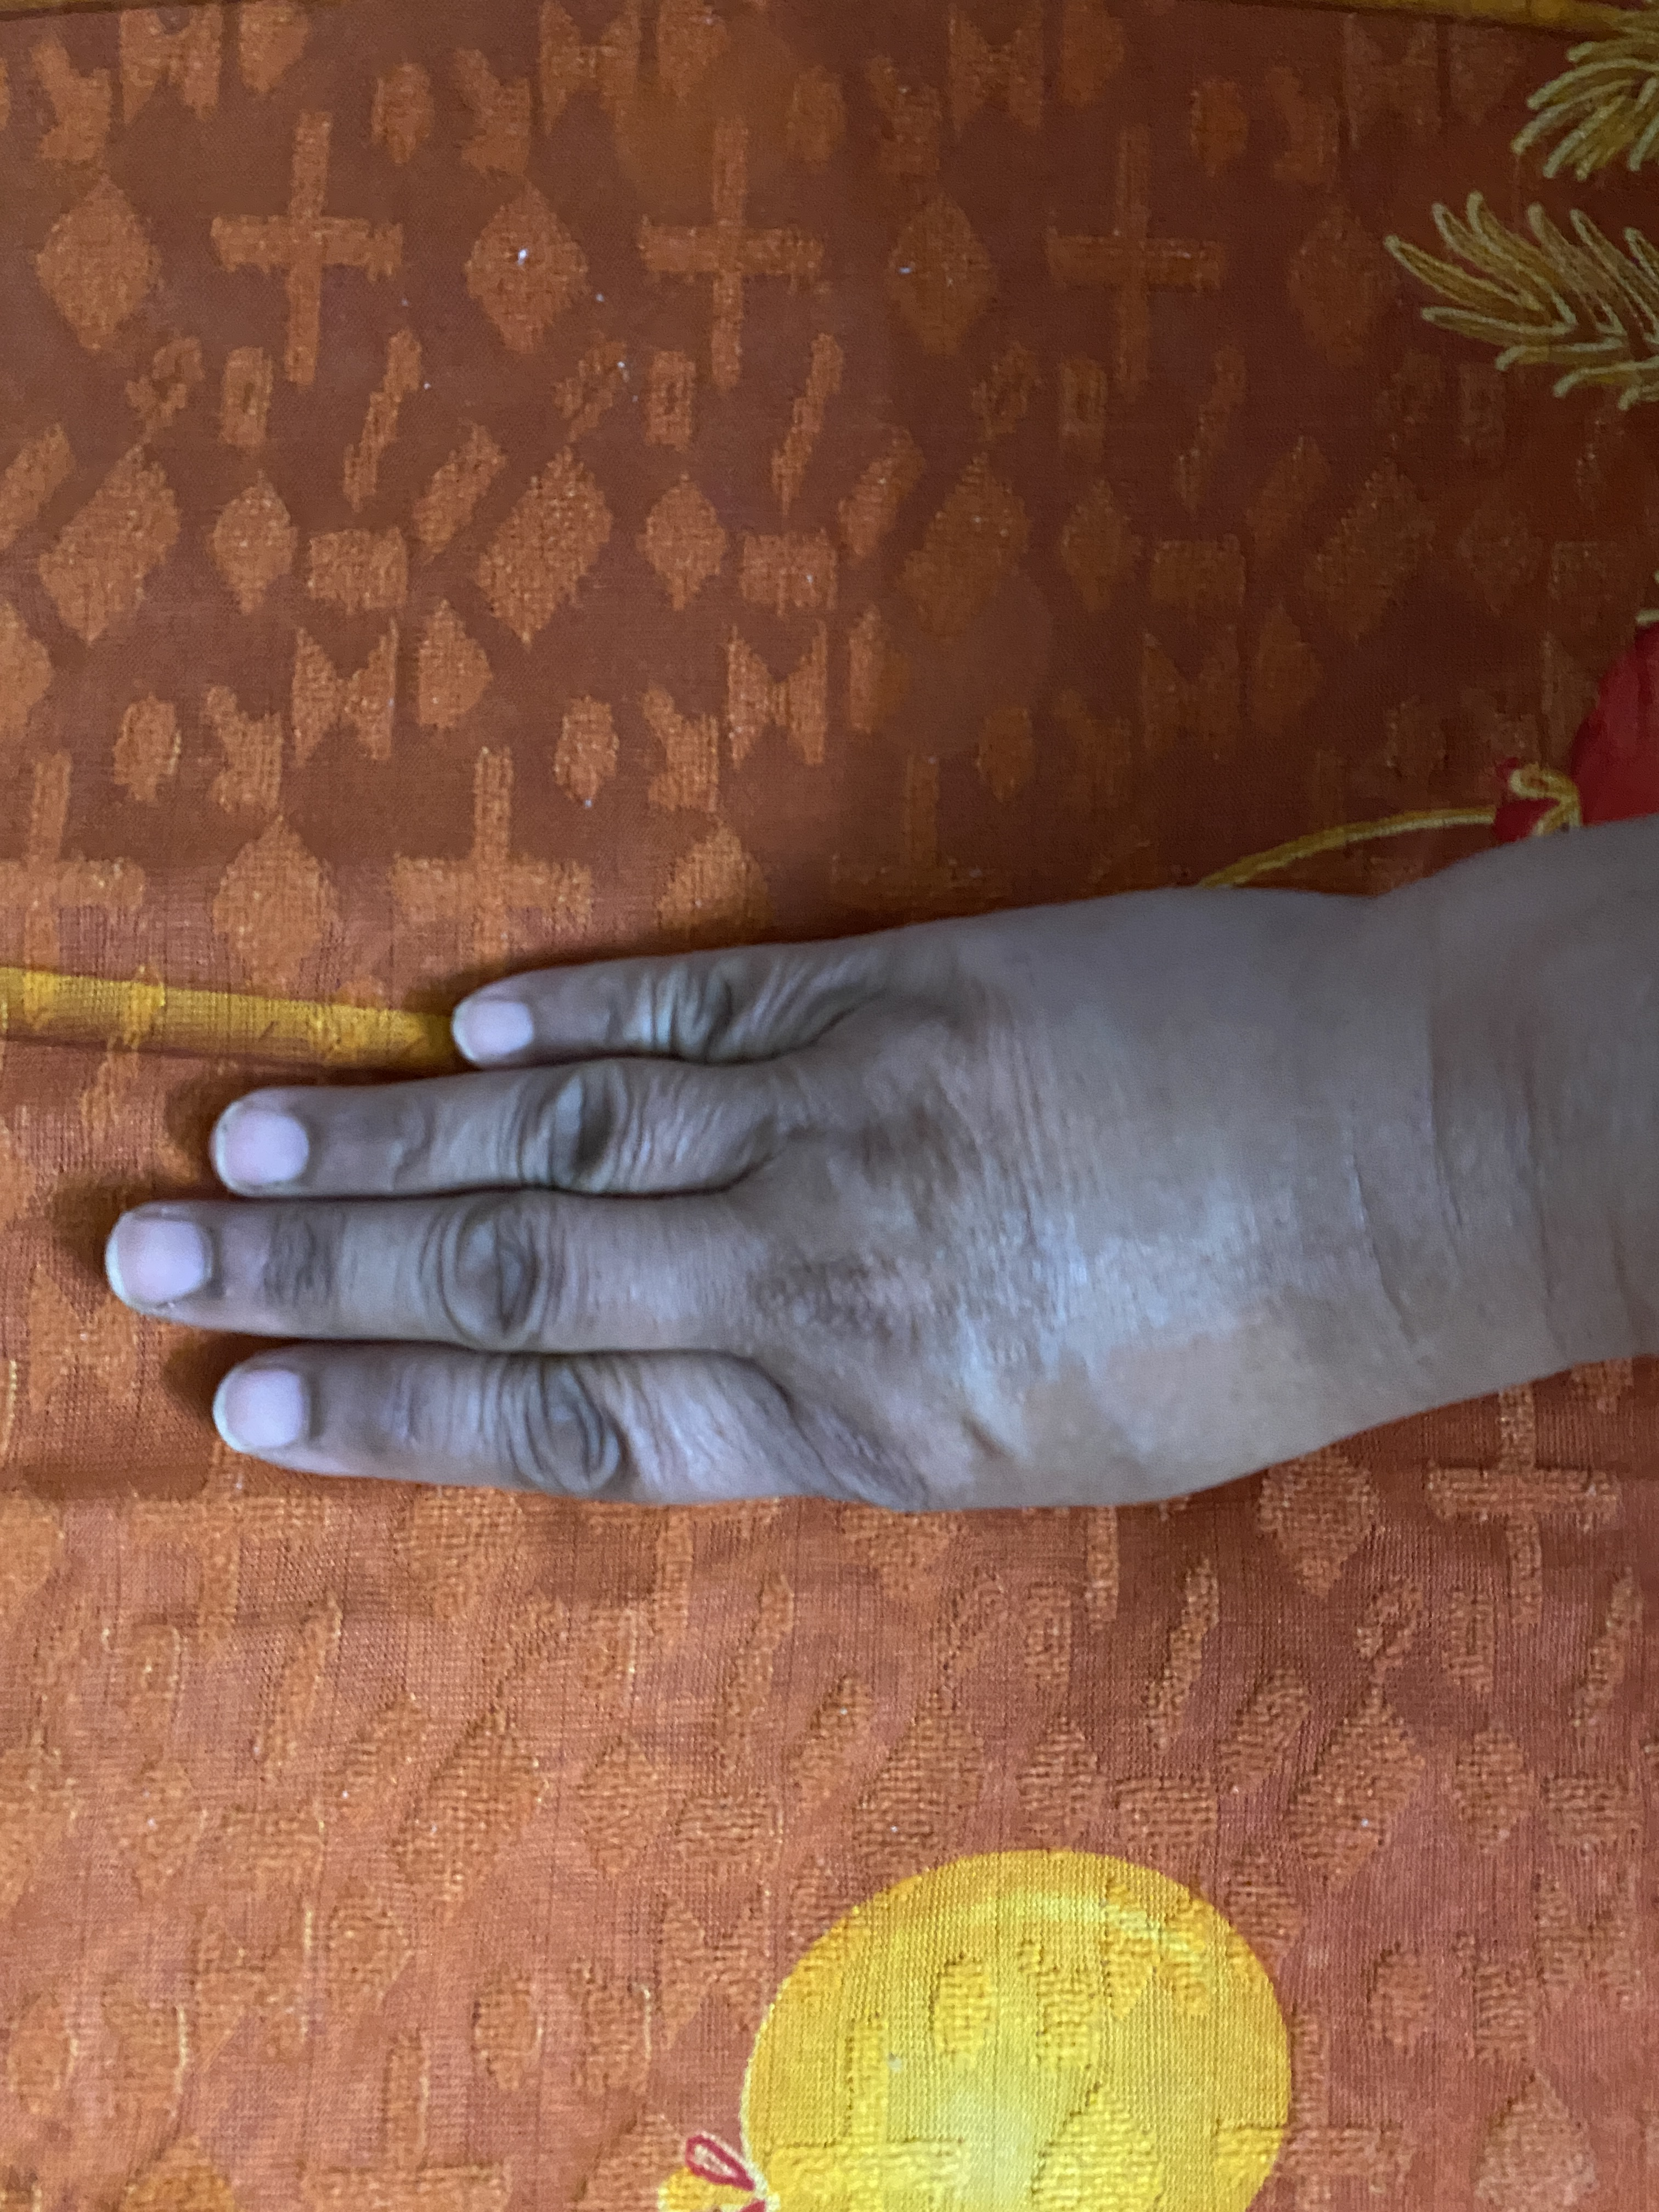right: (80, 570, 1659, 1583)
